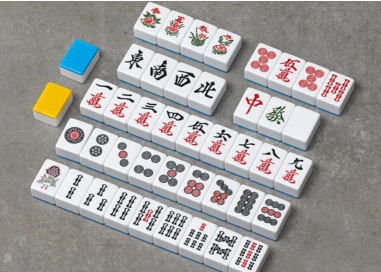b1: (46, 155, 72, 191)
b2: (72, 163, 98, 202), (244, 179, 269, 215)
b3: (97, 174, 121, 211)
b4: (120, 184, 147, 220)
b5: (145, 192, 171, 234), (333, 65, 360, 104), (200, 16, 217, 34)
b6: (171, 203, 197, 239)
b7: (192, 215, 220, 249)
b8: (220, 223, 247, 258)
b9: (239, 234, 265, 268)
c1: (85, 78, 112, 111)
c2: (110, 89, 137, 120)
c3: (135, 98, 159, 129)
c4: (159, 105, 183, 138)
c5: (184, 112, 208, 148), (284, 49, 309, 82)
c6: (207, 124, 233, 158)
c7: (232, 131, 256, 168)
c8: (256, 142, 281, 180)
c9: (281, 153, 306, 189)
d1: (62, 118, 87, 152)
d2: (87, 126, 111, 162)
d3: (116, 132, 140, 168)
d4: (143, 140, 172, 178)
d5: (166, 150, 194, 185), (308, 58, 333, 90), (261, 40, 285, 70)
d6: (187, 159, 215, 201)
d7: (220, 168, 245, 208)
d9: (268, 190, 293, 226)
dg: (273, 94, 298, 128)
dr: (248, 85, 273, 121)
dw: (297, 103, 324, 137)
s1: (150, 2, 168, 16)
s2: (173, 10, 192, 28)
s4: (223, 27, 240, 44)
we: (131, 41, 156, 71)
wn: (204, 70, 227, 102)
ws: (157, 50, 178, 81)
ww: (179, 62, 203, 91)
